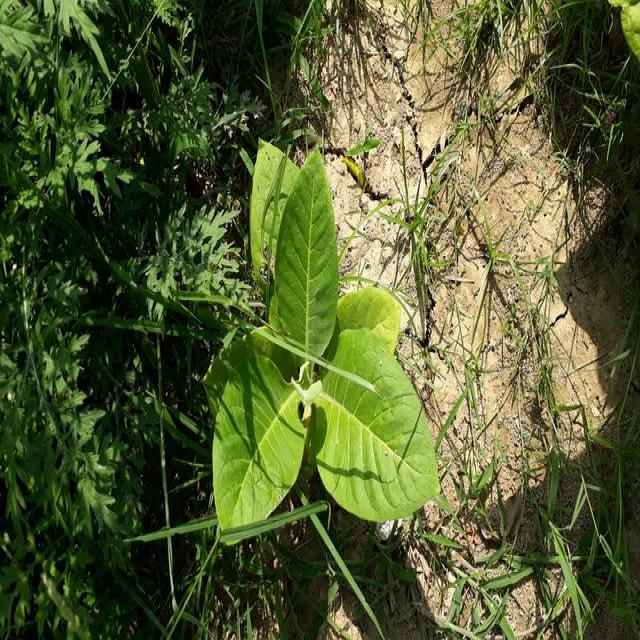crop: (213, 140, 439, 549)
